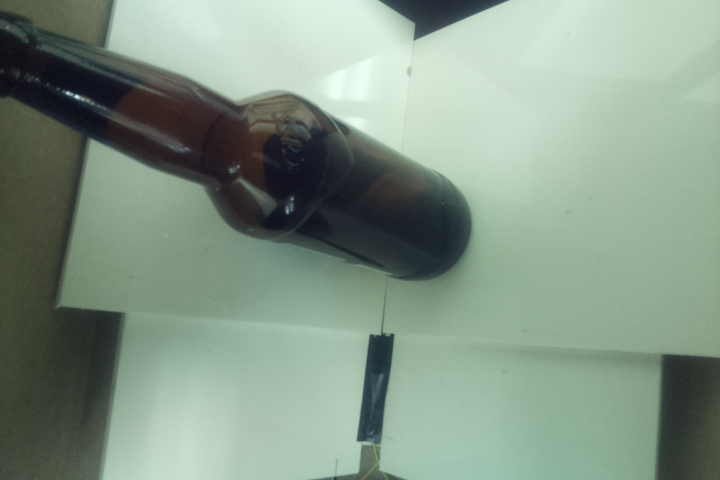makju: (1, 9, 473, 281)
